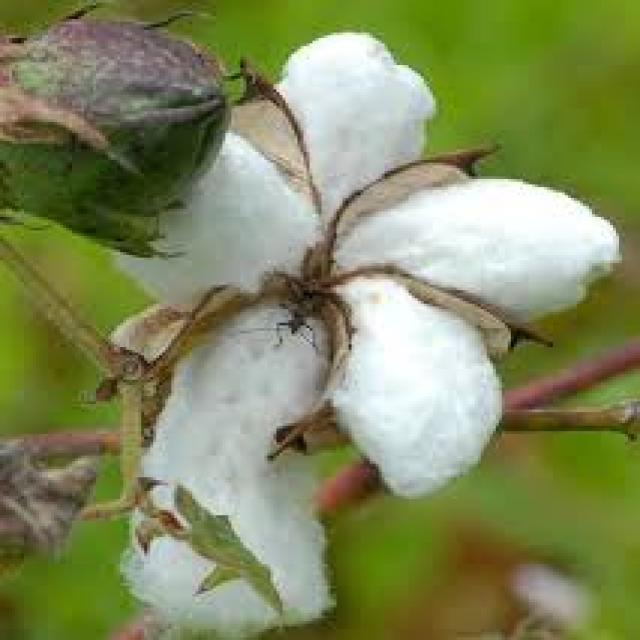Early Boll: (0, 22, 241, 244)
Matured Cotton Boll: (121, 31, 621, 599)
